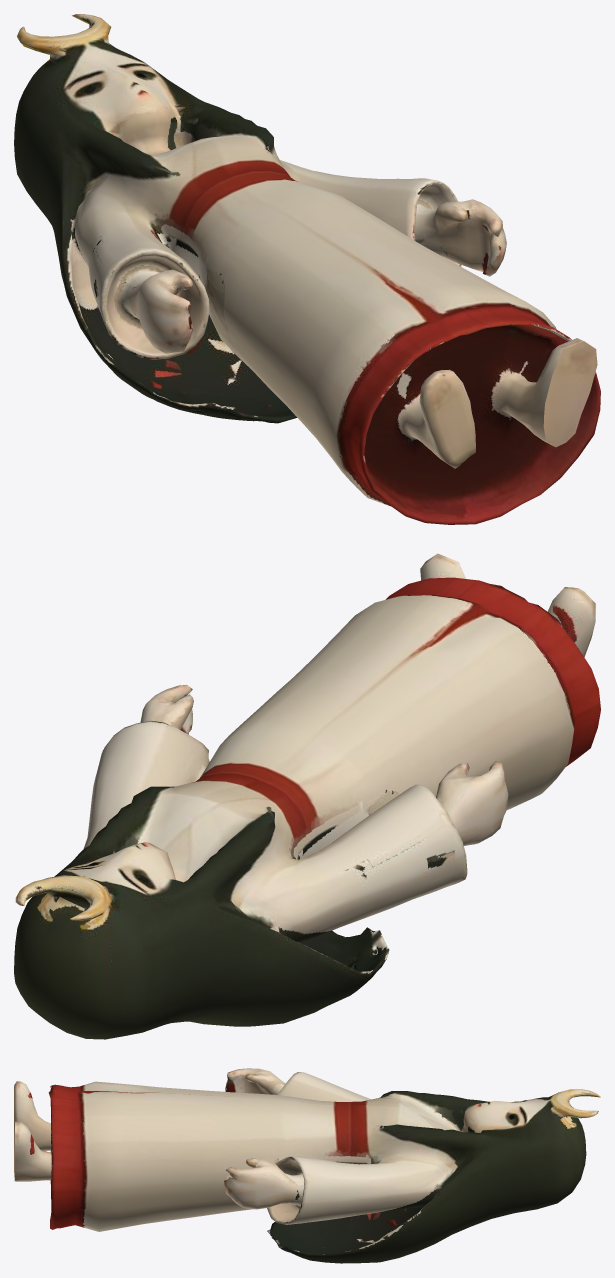
File: Izanami_No_Mikoto.glb
The picture shows the model from 3 angles, top to bottom: view 1: azimuth 30°, elevation 25°; view 2: azimuth 150°, elevation 25°; view 3: azimuth 270°, elevation 25°; orthographic projection. The views are drawn at different scales.
Visible parts, largest first — view 1: Retopo_izanami-no-mikoto; view 2: Retopo_izanami-no-mikoto; view 3: Retopo_izanami-no-mikoto.
Part boxes in pixels (box(x1,y1,x2,y2)): Retopo_izanami-no-mikoto: box(14, 14, 600, 524); Retopo_izanami-no-mikoto: box(14, 553, 600, 1039); Retopo_izanami-no-mikoto: box(14, 1068, 600, 1263).
Size of the model in its own units: 0.8787 by 0.5708 by 1.95.
1 material, 1 textured.
